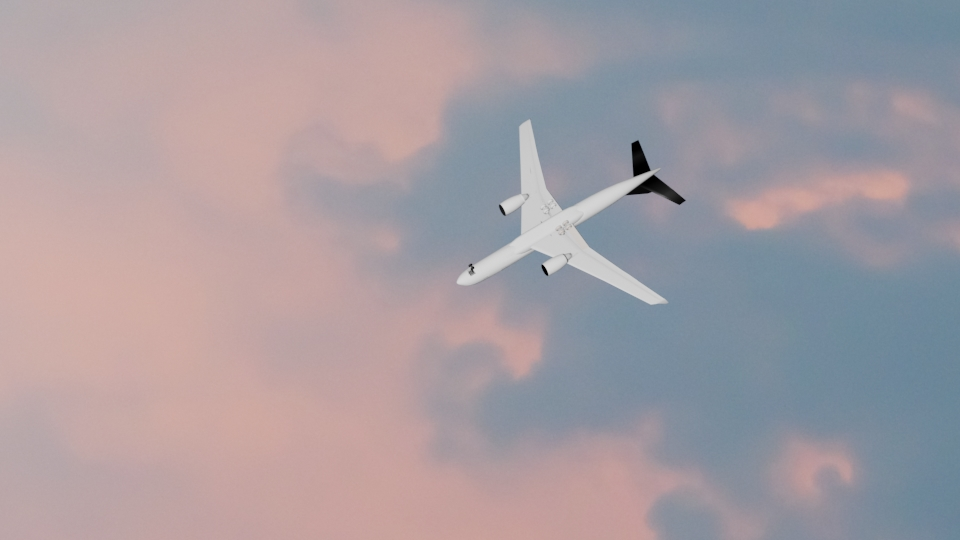plane: (451, 117, 685, 308)
